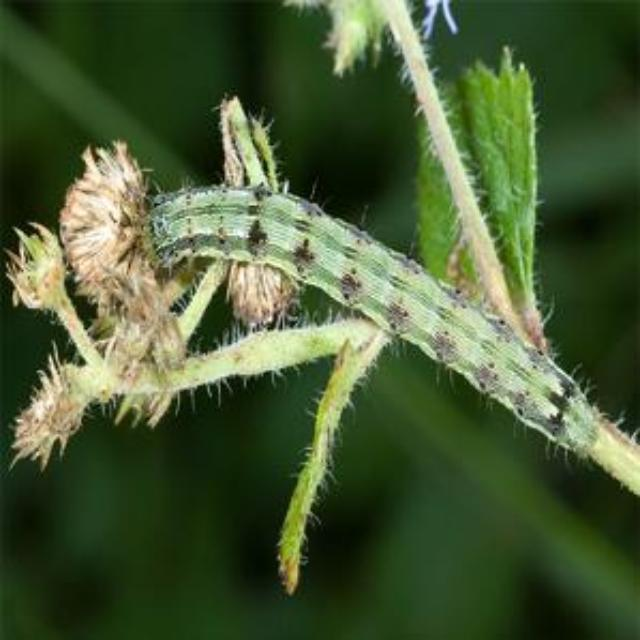Cotton bollworm: (102, 132, 614, 498)
